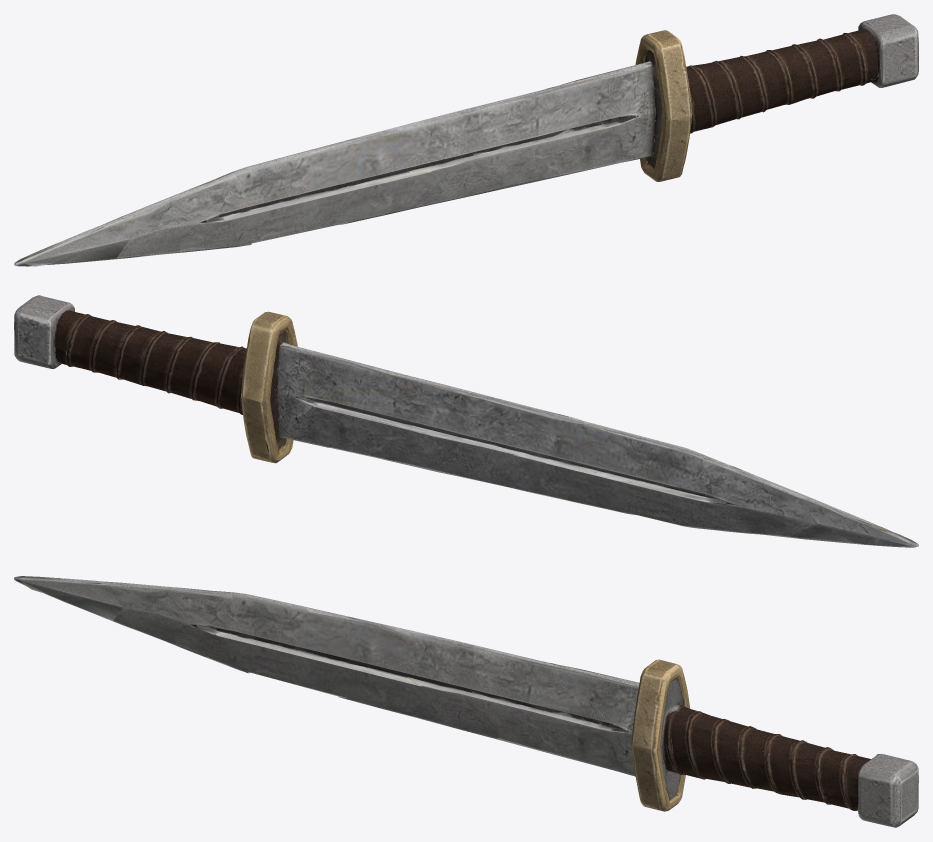
The model's file is blade.glb.
The picture shows the model from 3 angles, top to bottom: view 1: azimuth 30°, elevation 25°; view 2: azimuth 150°, elevation 25°; view 3: azimuth 330°, elevation 25°; orthographic projection.
Visible parts, largest first — view 1: Mesh_0; view 2: Mesh_0; view 3: Mesh_0.
Boxes of the visible parts, box(x1,y1,x2,y2) form: Mesh_0: box(14, 14, 918, 266); Mesh_0: box(14, 295, 918, 547); Mesh_0: box(14, 576, 918, 827).
Size of the model in its own units: 1.9 by 0.2848 by 0.1429.
Materials: 1 (1 with a texture image).
